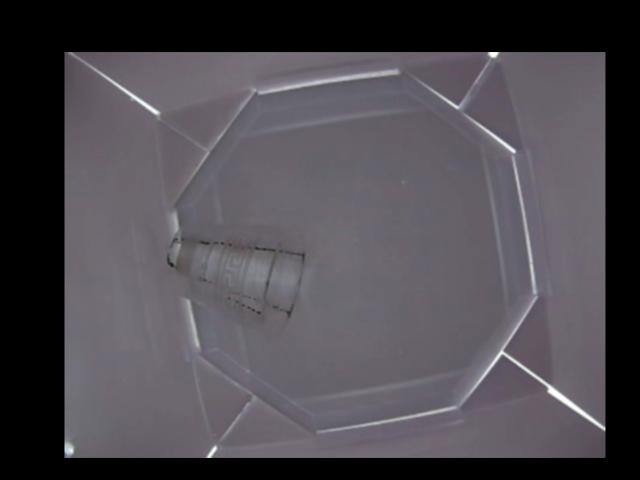Cup: (164, 223, 306, 324)
